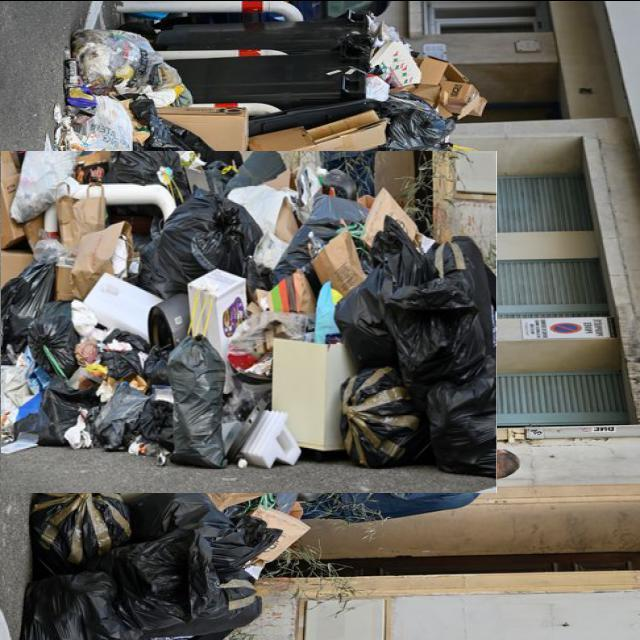Trashbag: (395, 243, 484, 380), (123, 537, 220, 627), (171, 339, 228, 468), (343, 369, 416, 465), (154, 214, 246, 290), (29, 491, 132, 557), (339, 258, 406, 356), (431, 372, 495, 471), (29, 576, 126, 640), (371, 93, 444, 151), (130, 488, 223, 533), (101, 379, 158, 449), (208, 509, 264, 572), (33, 393, 91, 447), (2, 261, 48, 323), (96, 330, 148, 384), (34, 312, 77, 376)
